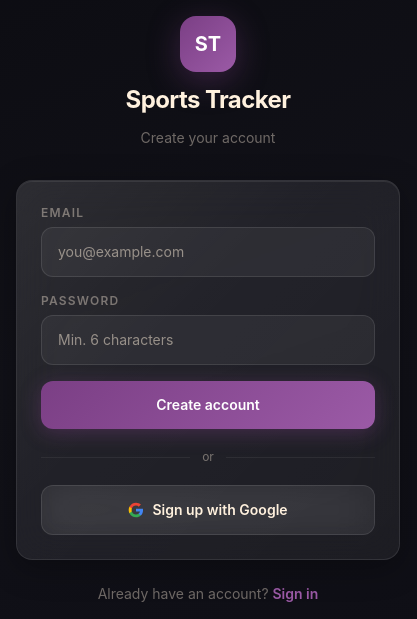
Test case: SignUpPage › shows confirmation message after successful sign up
Step 1. Type "user@example.com" into the field labelled "Email" → coordinates (208, 252), box [41,227,375,277]
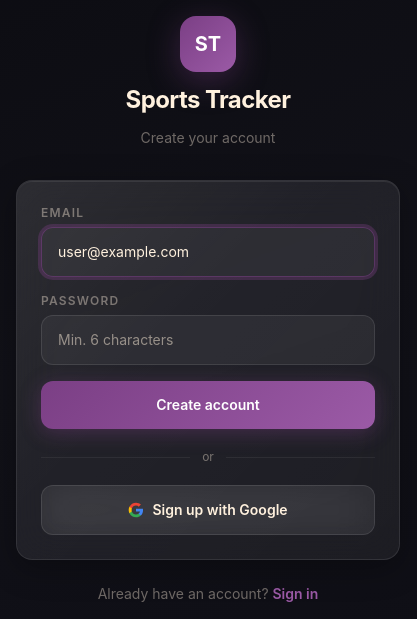
Step 2. Type "password123" into the password field labelled "Password" → coordinates (208, 340), box [41,315,375,365]
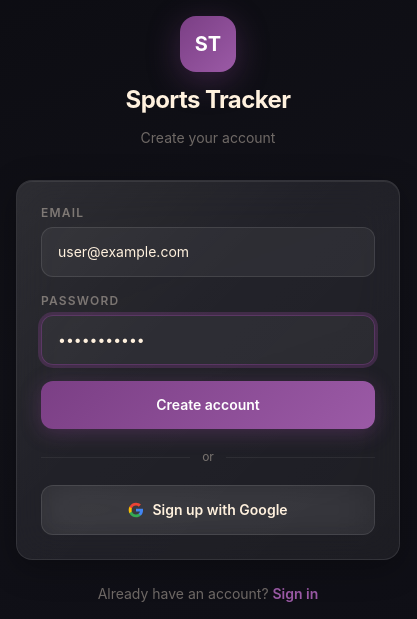
Step 3. Click the button "Create account" → coordinates (208, 405), box [41,381,375,429]
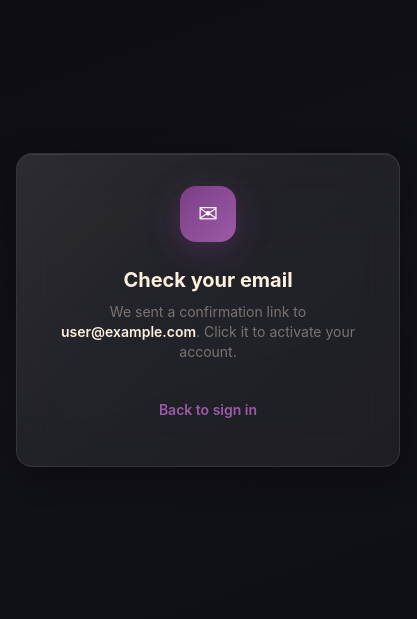
Now the heading "Check your email" is shown, box [123,268,293,292]
